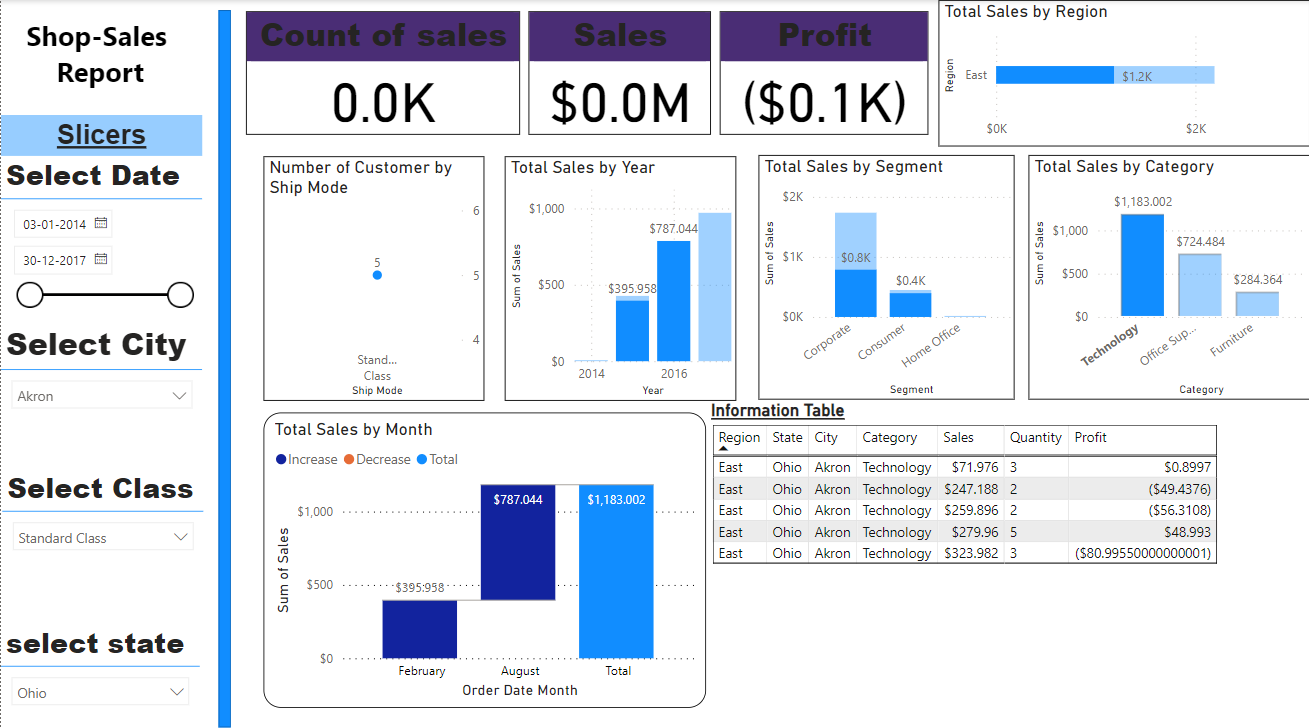

The dashboard page shown, as its layout file describes it:
{"tool":"powerbi","page":{"name":"Page 1","canvas":[1280,720],"ordinal":0},"visuals":[{"type":"tableEx","title":"Information Table","fields":{"Values":["Sample - Superstore.Region","Sample - Superstore.State","Sample - Superstore.City","Sample - Superstore.Category","Sample - Superstore.Sales","Sample - Superstore.Quantity","Sample - Superstore.Profit"]},"box":[689.4,391.2,590.4,306.8],"z":0},{"type":"clusteredColumnChart","title":"Total Sales by Category","fields":{"Category":["Sample - Superstore.Category"],"Y":["Sum(Sample - Superstore.Sales)"]},"box":[1004.8,151.6,275,239.6],"z":1000},{"type":"clusteredColumnChart","title":"Total Sales by Segment","fields":{"Category":["Sample - Superstore.Segment"],"Y":["Sum(Sample - Superstore.Sales)"]},"box":[740.8,151.6,250.6,239.6],"z":2000},{"type":"clusteredColumnChart","title":"Total Sales by Year","fields":{"Category":["Sample - Superstore.Order Date.Variation.Date Hierarchy.Year"],"Y":["Sum(Sample - Superstore.Sales)"]},"box":[492.6,152.8,226.1,239.6],"z":3000},{"type":"waterfallChart","title":"Total Sales by Month","fields":{"Y":["Sum(Sample - Superstore.Sales)"],"Category":["Sample - Superstore.Order Date.Variation.Date Hierarchy.Month"]},"box":[256.7,403.4,432.7,288.5],"z":4000},{"type":"lineChart","title":"Number of Customer by Ship Mode","fields":{"Category":["Sample - Superstore.Ship Mode"],"Y2":["CountNonNull(Sample - Superstore.Customer Name)"]},"box":[256.7,152.8,216.4,239.6],"z":5000},{"type":"barChart","title":"Total Sales by Region","fields":{"Category":["Sample - Superstore.Region"],"Y":["Sum(Sample - Superstore.Sales)"]},"box":[916.8,0,363.1,143],"z":6000},{"type":"card","title":"Profit","fields":{"Values":["Sum(Sample - Superstore.Profit)"]},"box":[702.9,11,204.1,121],"z":7000},{"type":"card","title":"Sales","fields":{"Values":["Sum(Sample - Superstore.Sales)"]},"box":[515.9,11,178.5,121],"z":8000},{"type":"card","title":"Count of sales","fields":{"Values":["CountNonNull(Sample - Superstore.Sales)"]},"box":[239.6,11,267.7,121],"z":9000},{"type":"slicer","title":"Select Date","fields":{"Values":["Sample - Superstore.Order Date"]},"box":[0,151.6,196.8,157.7],"z":10000},{"type":"slicer","title":"Select City","fields":{"Values":["Sample - Superstore.City"]},"box":[0,315.4,196.8,90.5],"z":11000},{"type":"slicer","title":"Select Class","fields":{"Values":["Sample - Superstore.Ship Mode"]},"box":[1.2,457.2,196.8,90.5],"z":12000},{"type":"textbox","box":[0,112.5,196.8,40.3],"z":13000},{"type":"slicer","title":"select state","fields":{"Values":["Sample - Superstore.State"]},"box":[0,608.8,194.4,90.5],"z":14000},{"type":"shape","box":[212.7,9.8,12.2,701.7],"z":15000},{"type":"textbox","box":[0,11,194.4,89.2],"z":16000}]}

Visuals, with their boxes in screenshot pixels (x1, y1, x2, y2), scaled from the page's 1280x720 canvas onto the 1309x728 screenshot:
"Information Table" tableEx: locate(705, 396, 1308, 706)
"Total Sales by Category" clusteredColumnChart: locate(1028, 153, 1308, 396)
"Total Sales by Segment" clusteredColumnChart: locate(758, 153, 1014, 396)
"Total Sales by Year" clusteredColumnChart: locate(504, 154, 735, 397)
"Total Sales by Month" waterfallChart: locate(263, 408, 705, 700)
"Number of Customer by Ship Mode" lineChart: locate(263, 154, 484, 397)
"Total Sales by Region" barChart: locate(938, 0, 1308, 145)
"Profit" card: locate(719, 11, 928, 133)
"Sales" card: locate(528, 11, 710, 133)
"Count of sales" card: locate(245, 11, 519, 133)
"Select Date" slicer: locate(0, 153, 201, 313)
"Select City" slicer: locate(0, 319, 201, 410)
"Select Class" slicer: locate(1, 462, 202, 554)
textbox: locate(0, 114, 201, 154)
"select state" slicer: locate(0, 616, 199, 707)
shape: locate(218, 10, 230, 719)
textbox: locate(0, 11, 199, 101)
